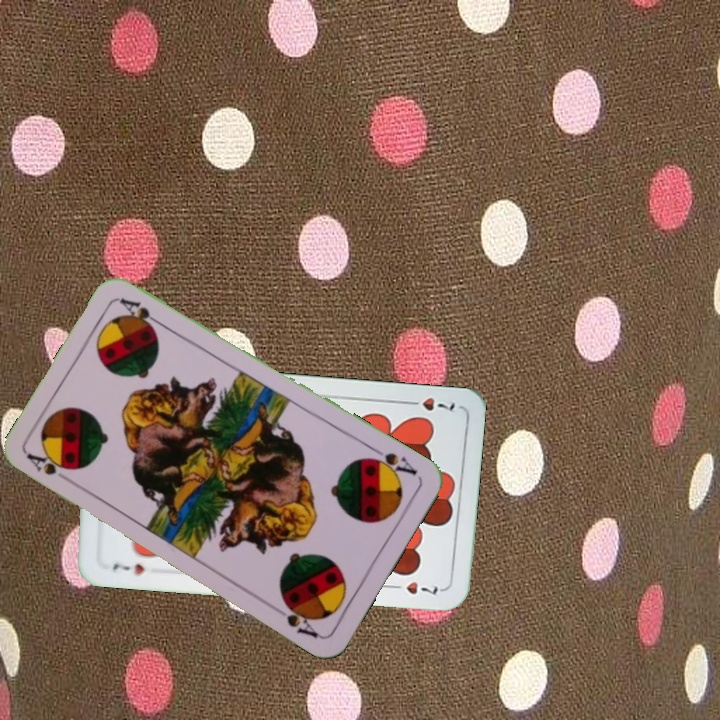H7: (401, 393, 458, 414), (108, 558, 147, 577)
SA: (362, 443, 420, 481), (23, 449, 75, 488)
